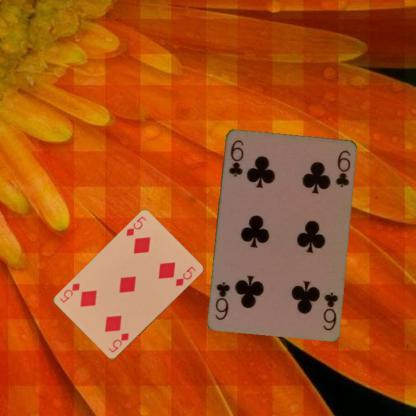5d: (106, 331, 130, 354), (124, 214, 147, 237)
6c: (320, 289, 339, 332), (226, 137, 244, 178)
